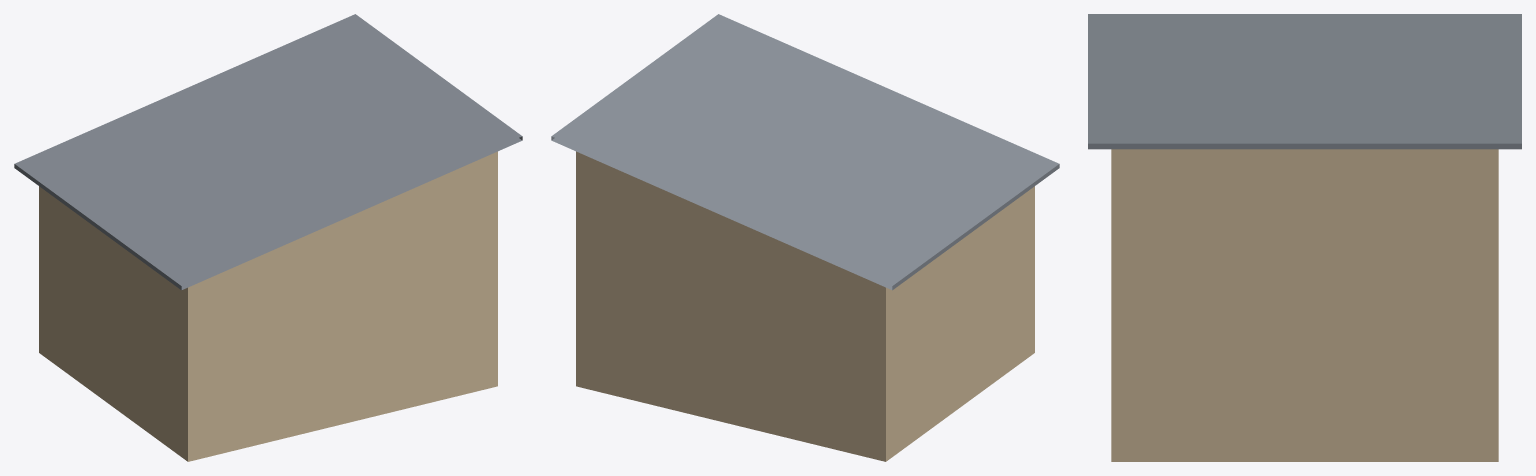
The model's file is far.fbx.
3 views of the same model, side by side, from view 1: azimuth 30°, elevation 25°; view 2: azimuth 150°, elevation 25°; view 3: azimuth 270°, elevation 25° (orthographic). The views are drawn at different scales.
Visible parts, largest first — view 1: a2014/0/far; view 2: a2014/0/far; view 3: a2014/0/far.
Boxes of the visible parts, x1,y1,x2,y2 form: a2014/0/far: (14,14,522,461); a2014/0/far: (551,14,1059,461); a2014/0/far: (1088,14,1521,461).
Bounding box in the file's own units: 6.6 × 4.68 × 5.6.
